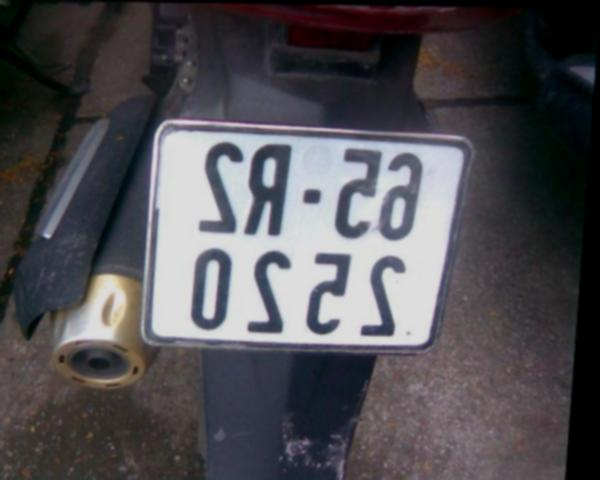License_Plate: (129, 134, 466, 348)
